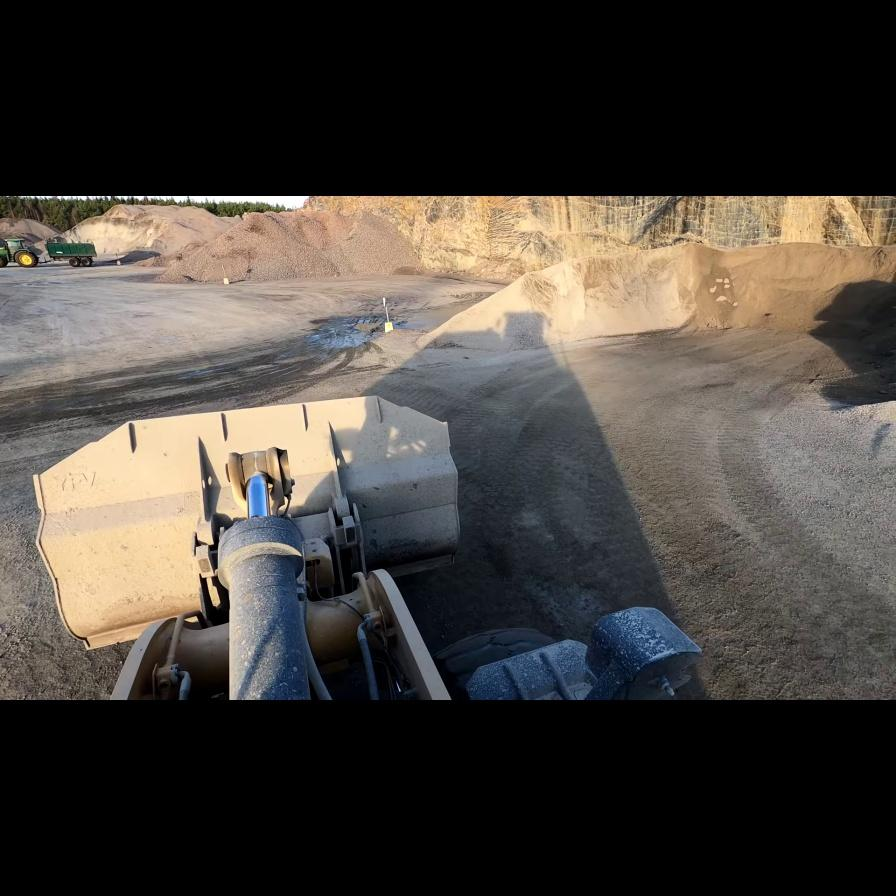anchor: (226, 449, 292, 514)
pile of gravel: (423, 238, 884, 351), (155, 205, 419, 285), (63, 204, 236, 261), (1, 218, 65, 249)
